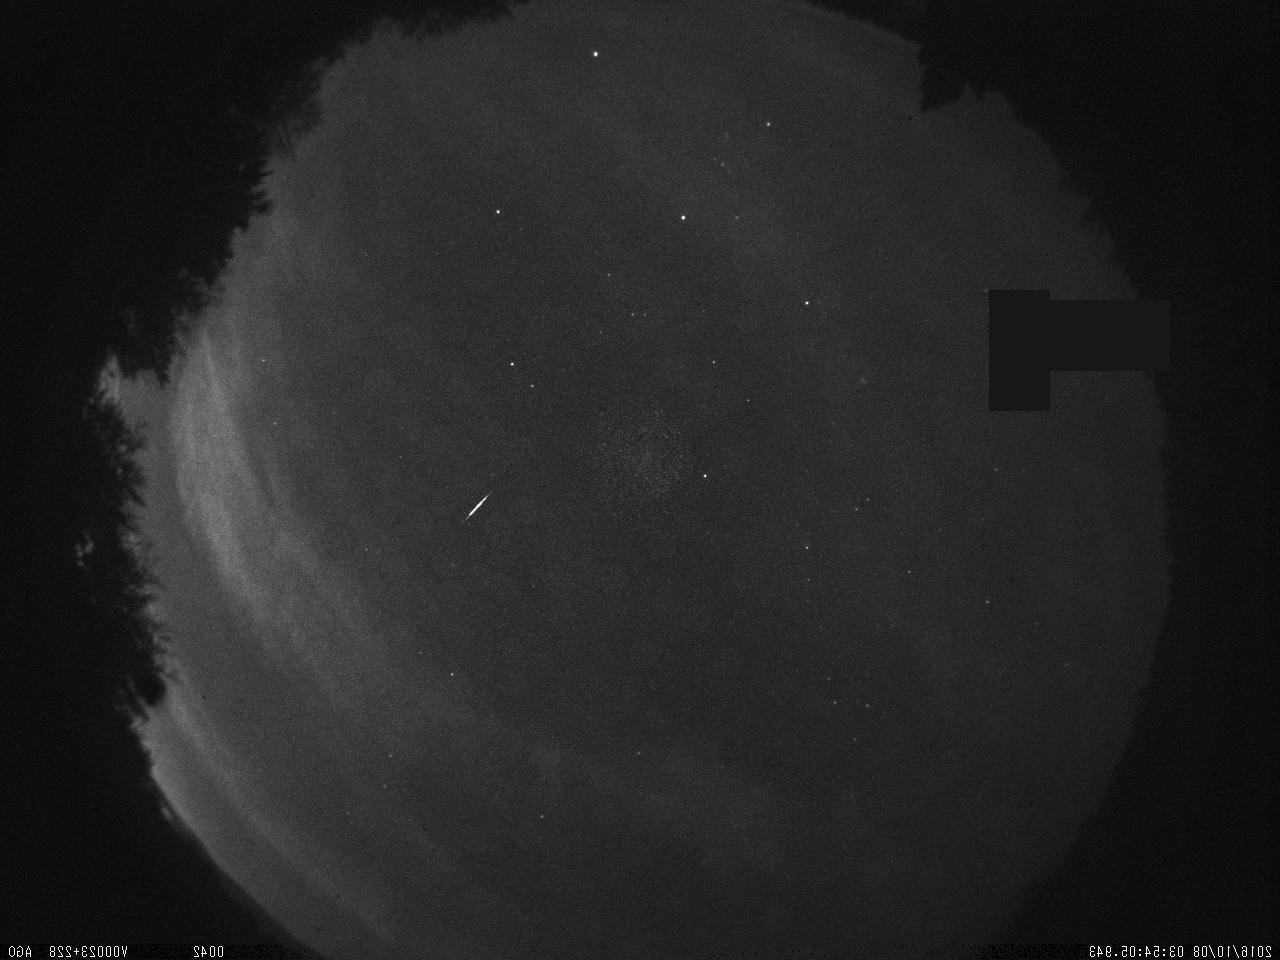meteor: (454, 478, 510, 527)
